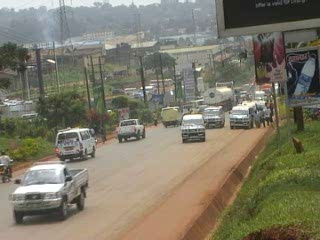Motorcycle: (0, 147, 16, 184)
